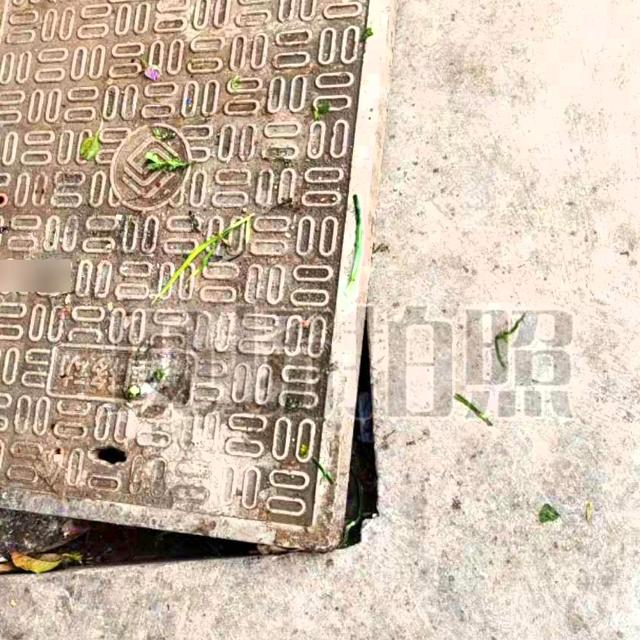uncovered: (0, 0, 416, 574)
